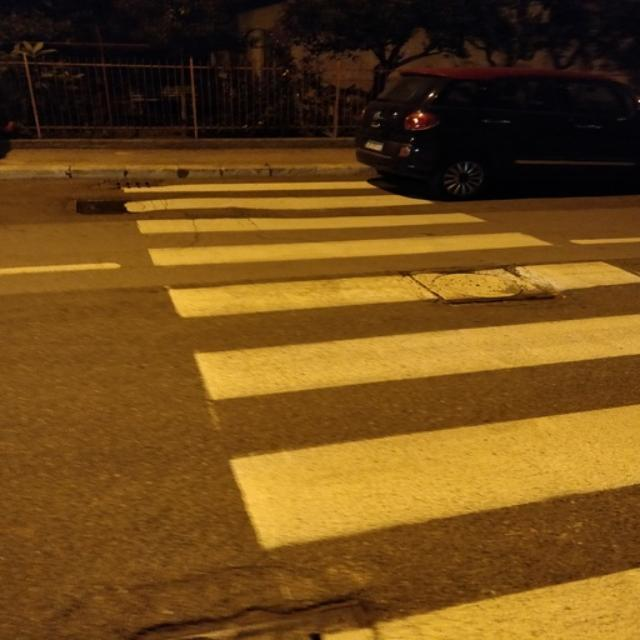sidewalk: (125, 169, 640, 640)
